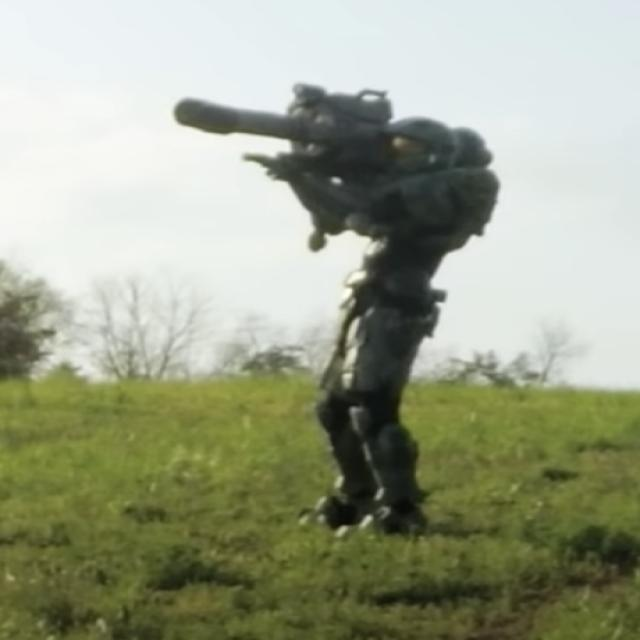bazooka: (155, 58, 516, 215)
